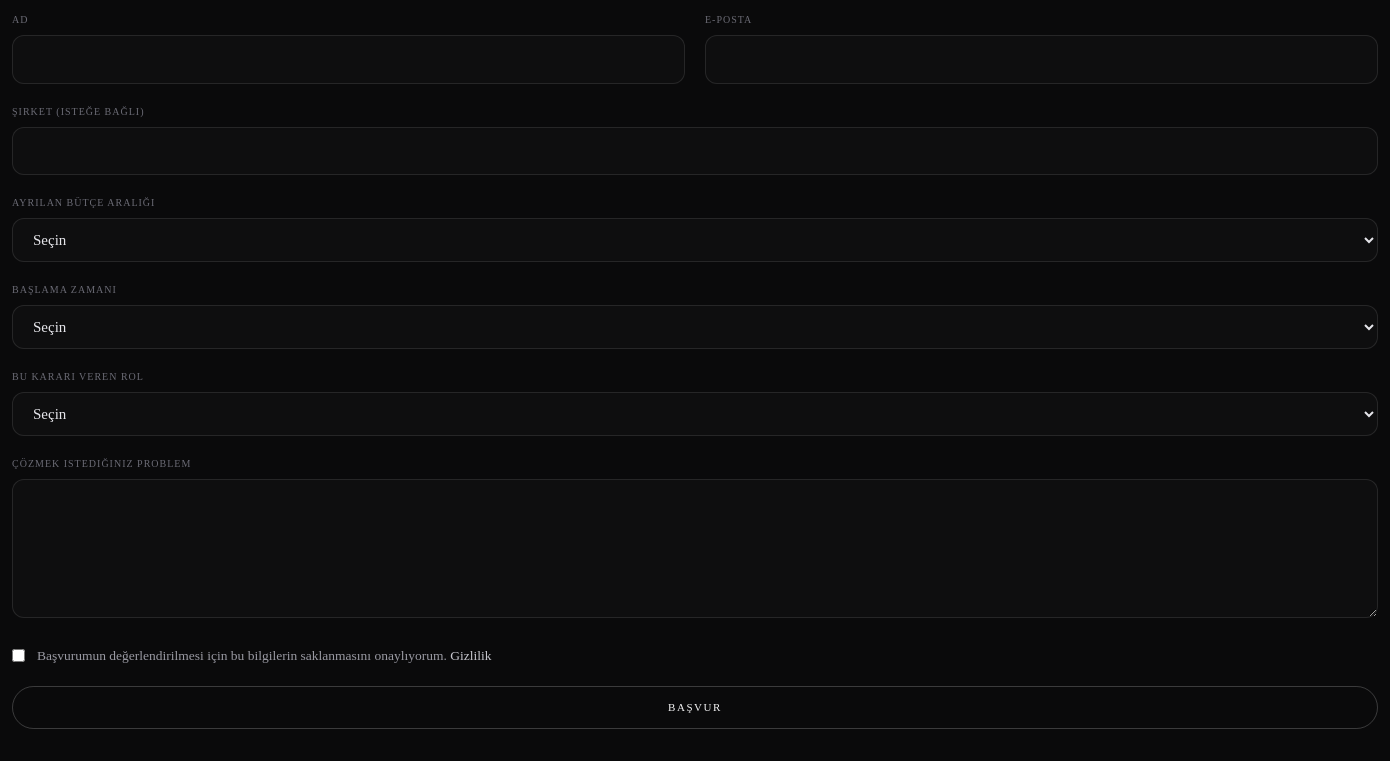
Test: the Studio API error envelope › fails safe for an unknown API {error} code without exposing it
The image size is (1390, 761).
Type "Ada" into the field labelled "Ad". click: (348, 59)
box: [12,35,685,84]
Type "ada@example.com" into the field labelled "E-posta". click: (1042, 59)
box: [705,35,1378,84]
Type "A measurable product problem." into the text box labelled "Çözmek istediğiniz problem". click: (695, 548)
box: [12,479,1378,618]
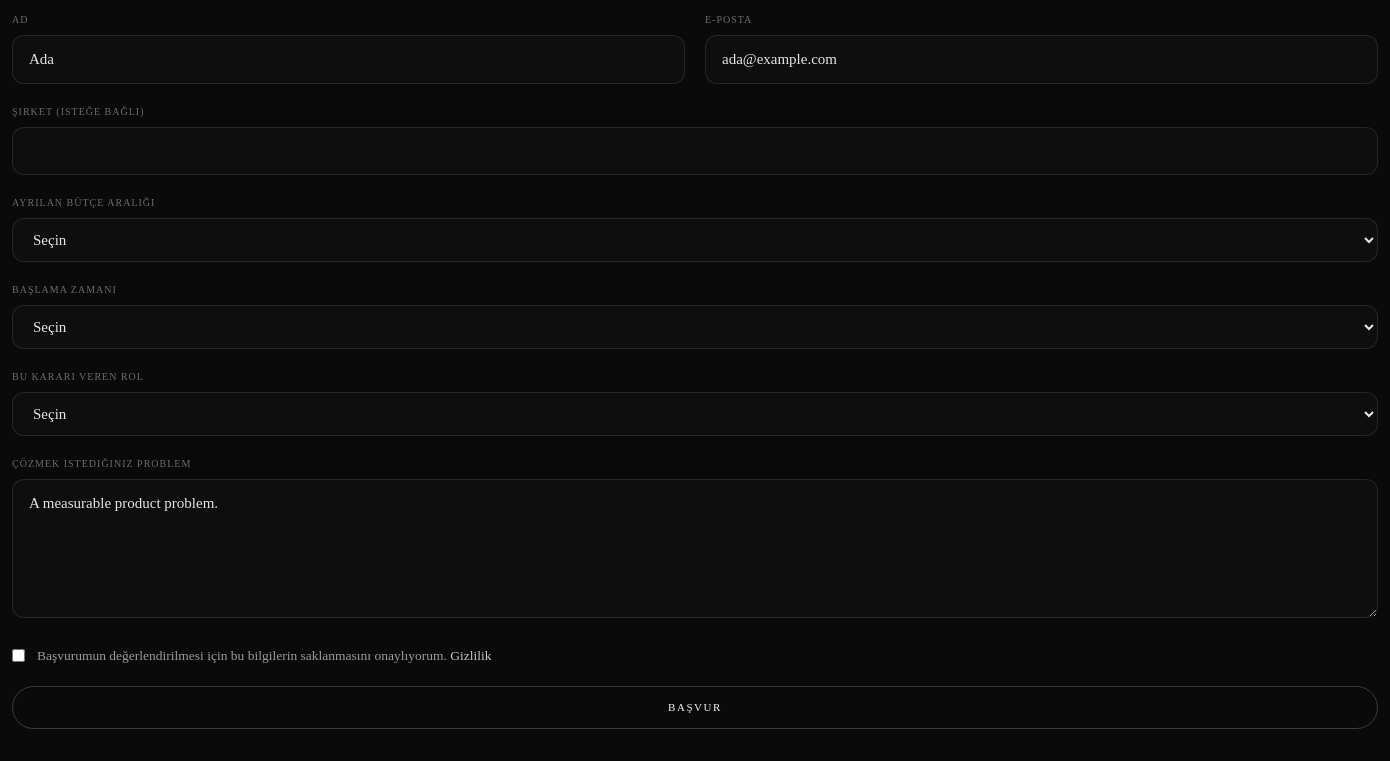
Select "Henüz küçük bir bütçe" in the dropdown labelled "Ayrılan bütçe aralığı". click: (695, 240)
box: [12,218,1378,262]
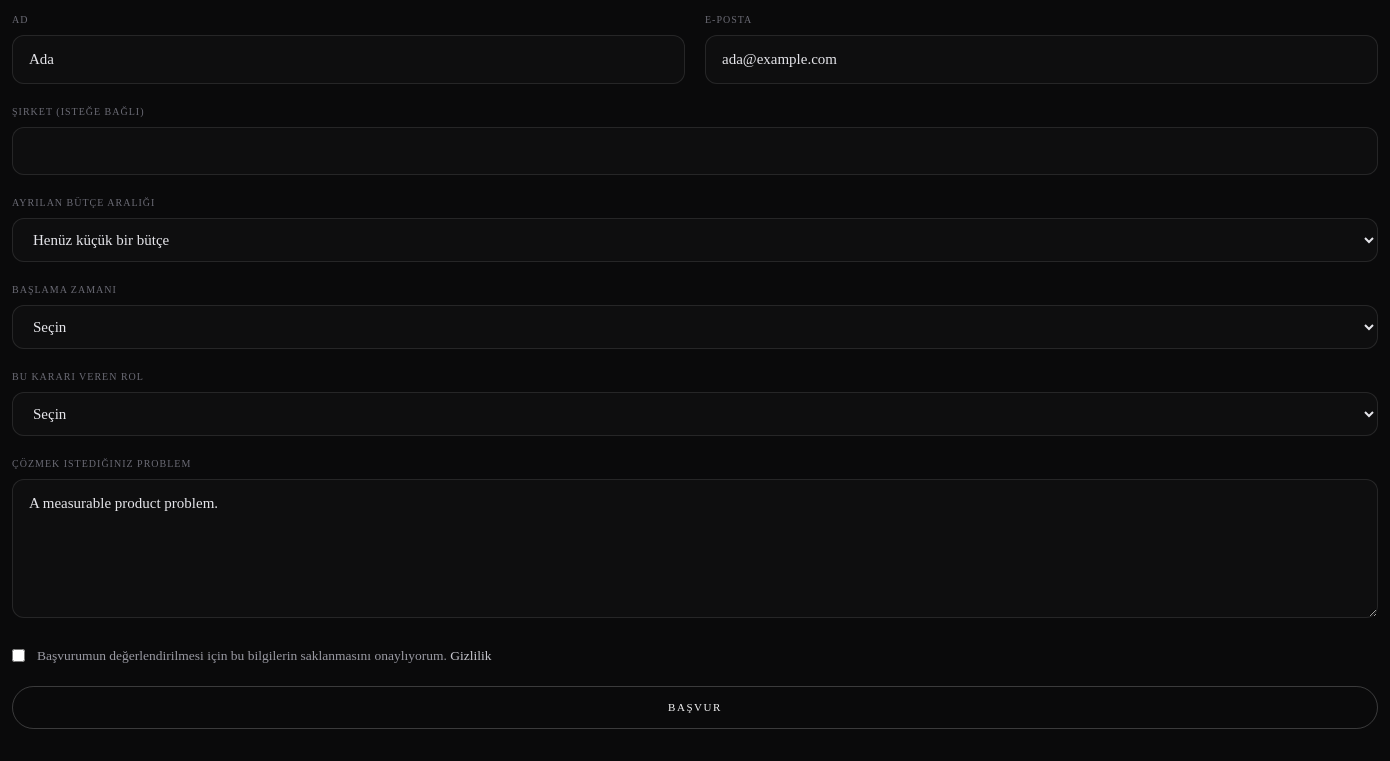
Select "Hazırız" in the dropdown labelled "Başlama zamanı". click: (695, 327)
box: [12,305,1378,349]
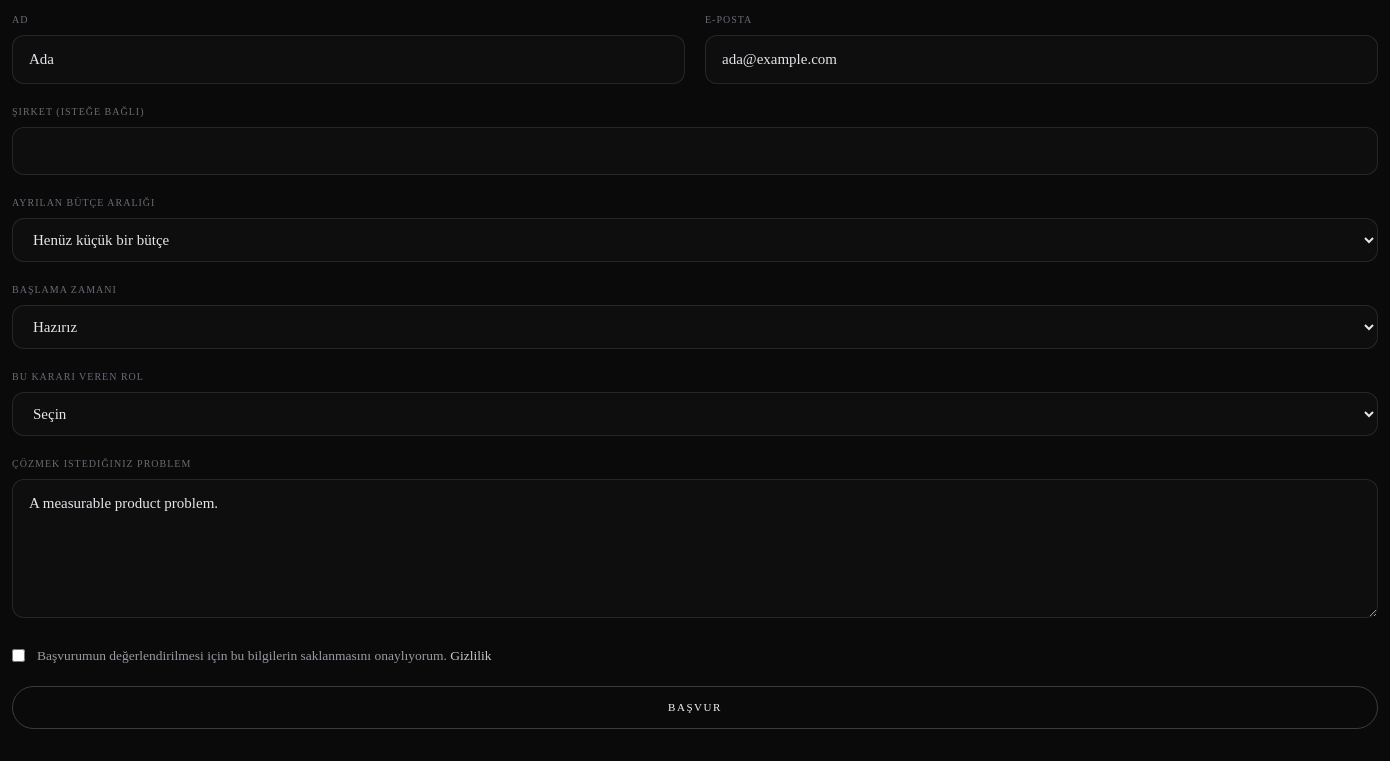
Select "Kurucu" in the dropdown labelled "Bu kararı veren rol". click: (695, 414)
box: [12,392,1378,436]
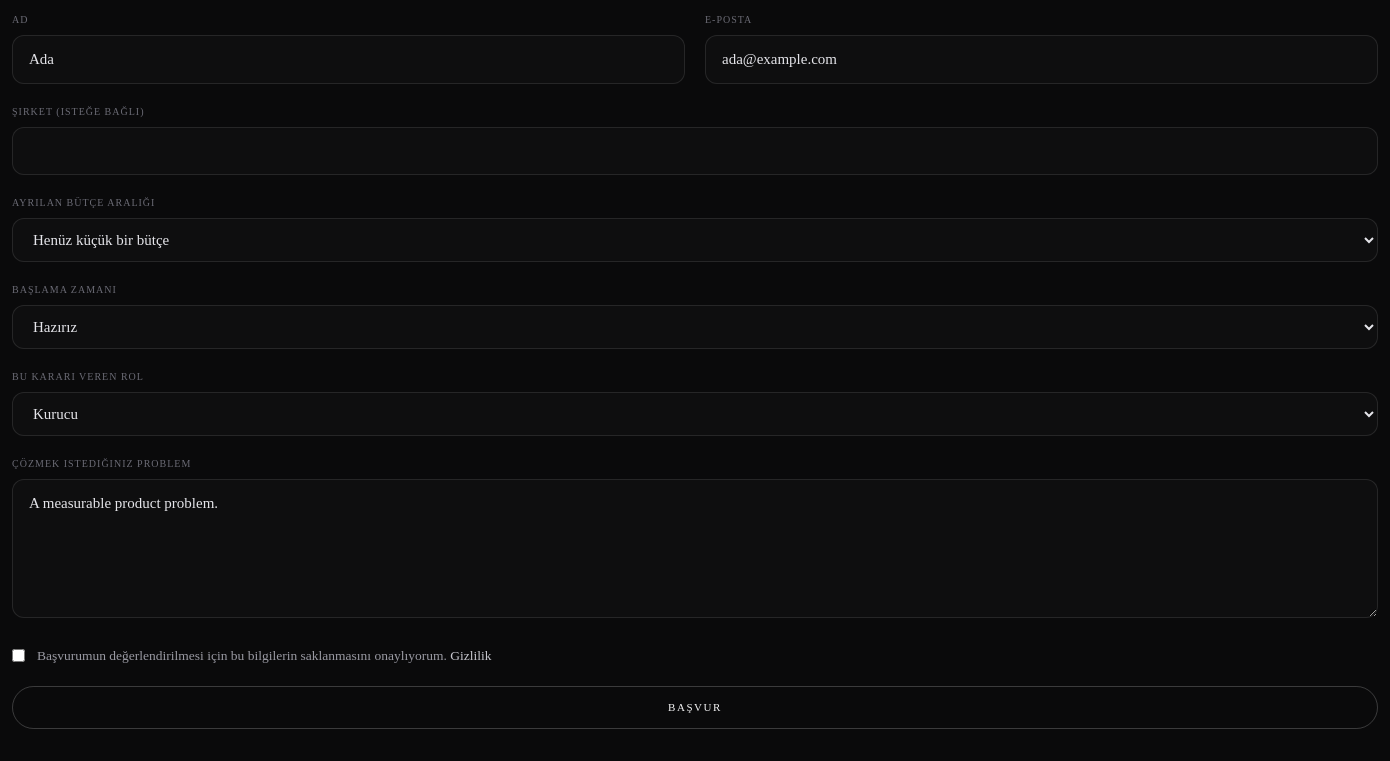
Click the checkbox. click: (18, 655)
box: [12,648,25,662]
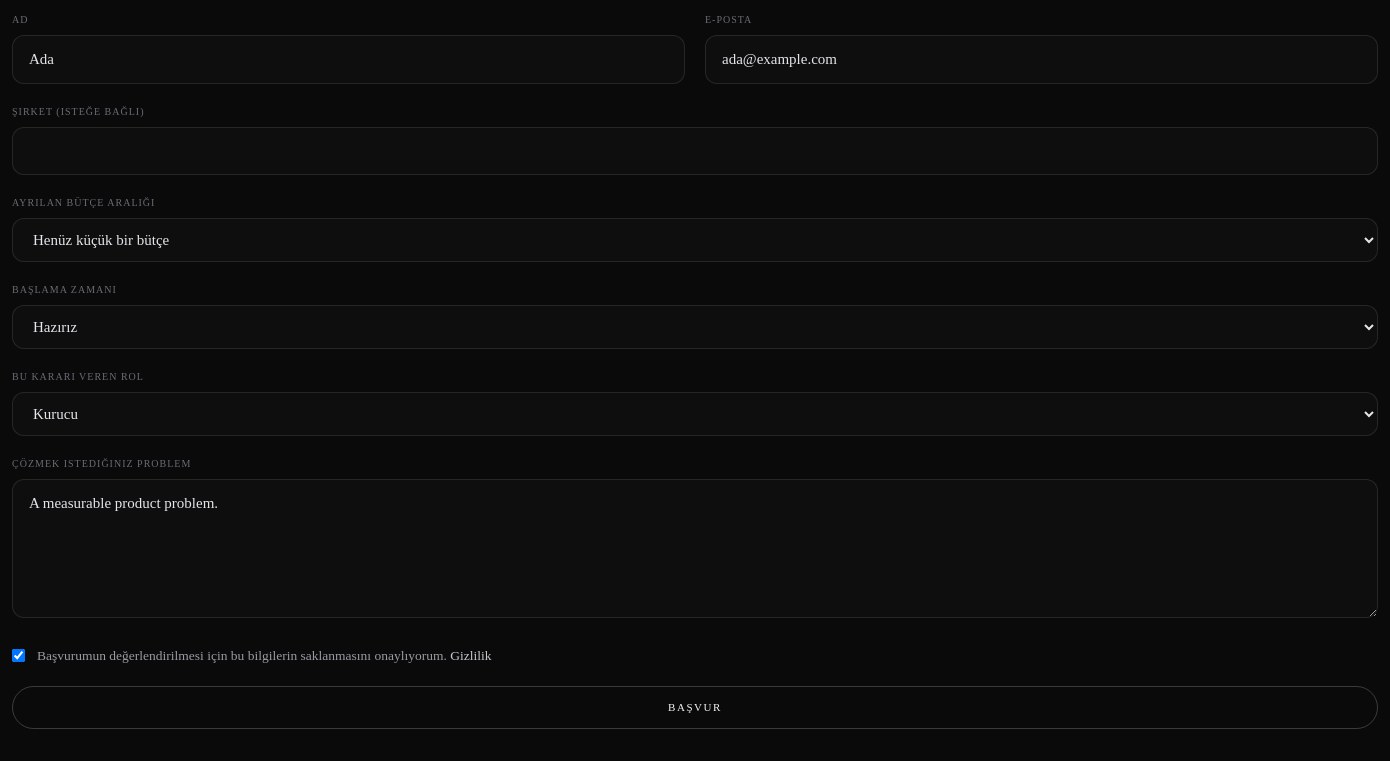
Submit the form from the button "Başvur", box [12,686,1378,729]
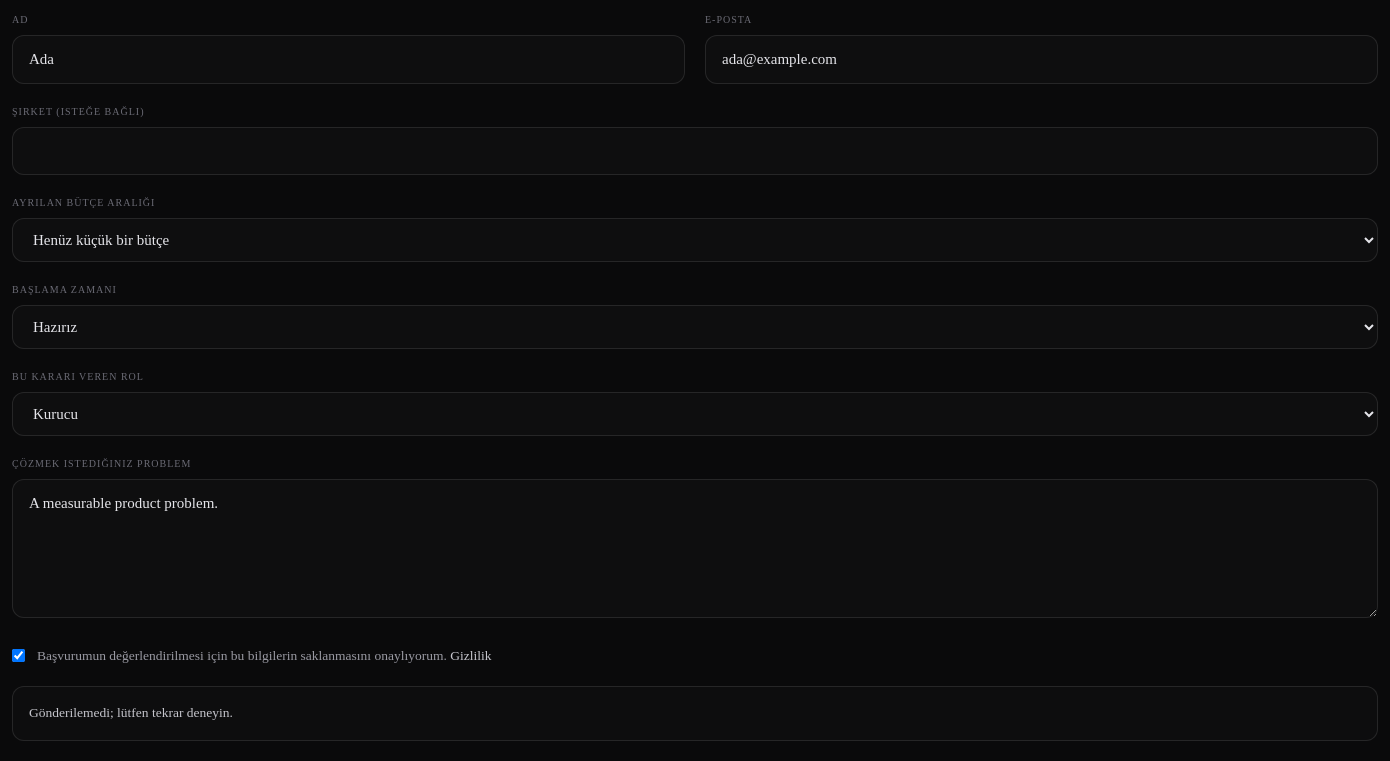
expect the list item "Gönderilemedi; lütfen tekrar deneyin." is shown: met, box [29,705,233,720]
